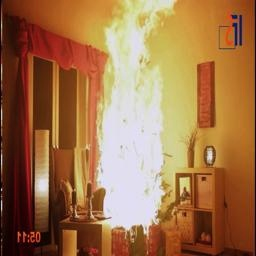fire: (89, 3, 189, 236)
